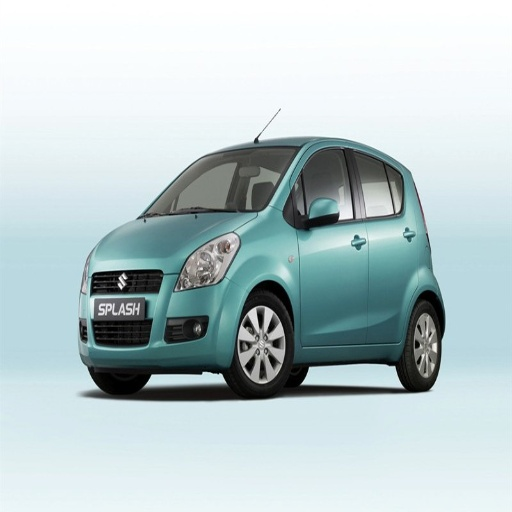front_bumper: (76, 259, 246, 364)
front_glass: (144, 148, 299, 217)
front_left_door: (293, 145, 368, 345)
